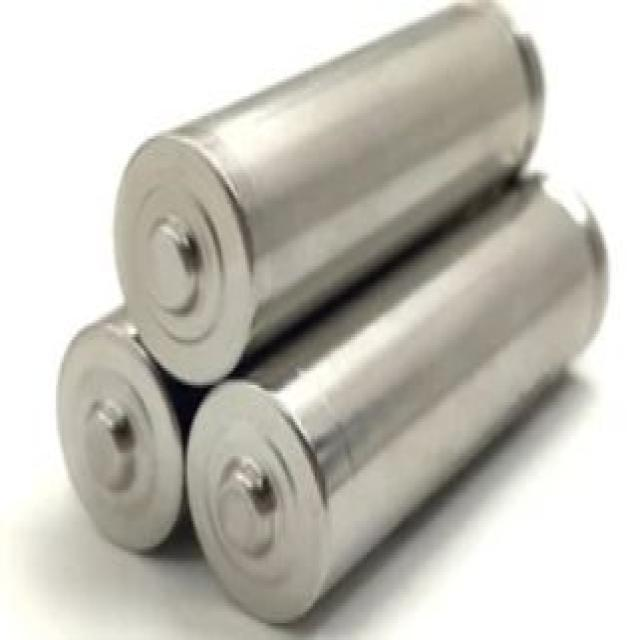electronic: (35, 0, 628, 640)
